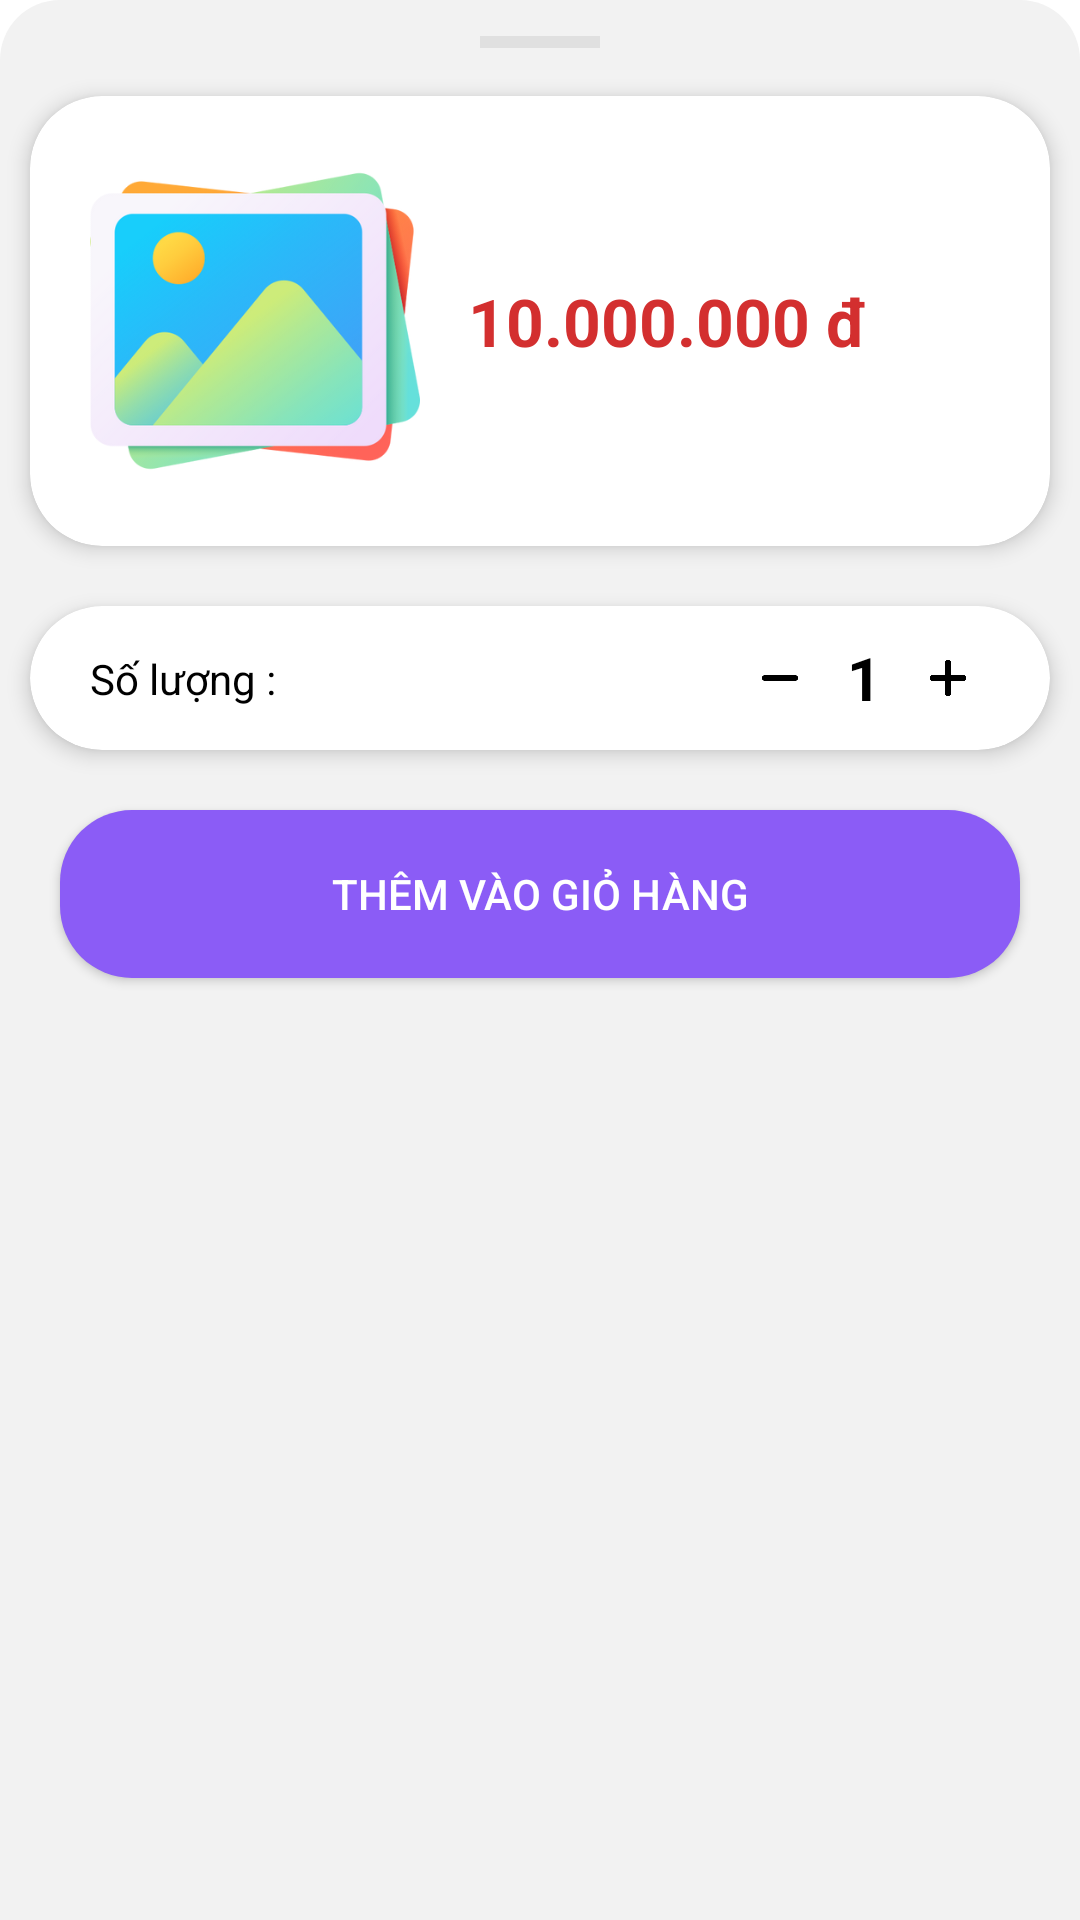

Icon bounding boxes for this 1080×1920 phone screenshot, format (x1, y1, x2, y2):
giam so luong: (762, 675, 798, 681)
hinh anh: (90, 173, 420, 469)
tang so luong: (930, 660, 966, 696)
